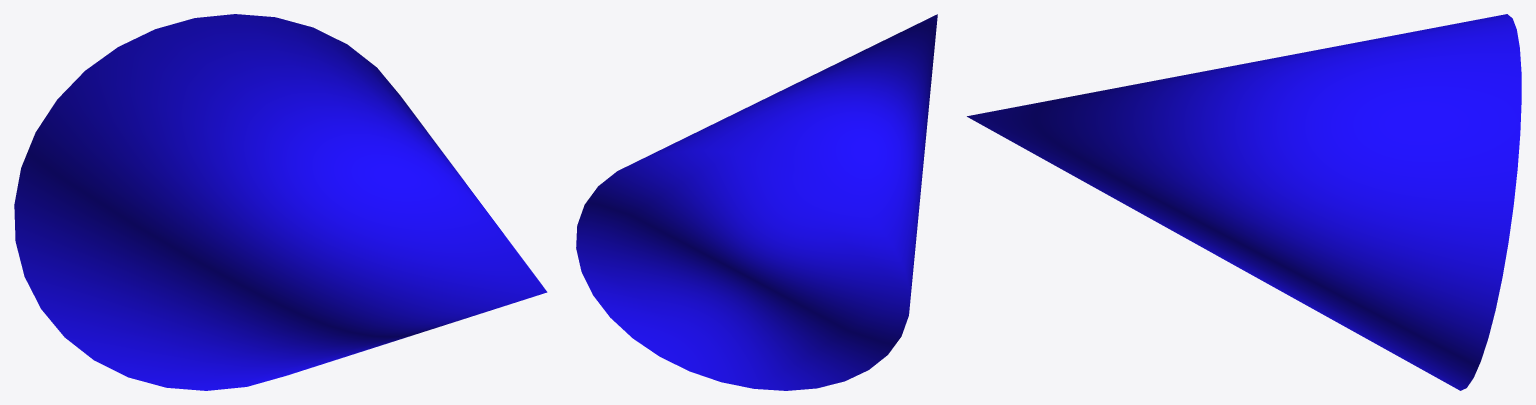
File: zone3-rhino-blue.gltf
3 views of the same model, side by side, from view 1: azimuth 30°, elevation 25°; view 2: azimuth 150°, elevation 25°; view 3: azimuth 270°, elevation 25° (orthographic). The views are drawn at different scales.
Parts seen in each view (by area): view 1: Corne; view 2: Corne; view 3: Corne.
Part boxes in pixels (left/top/right/bottom): Corne: left=14, top=14, right=547, bottom=390; Corne: left=576, top=14, right=937, bottom=390; Corne: left=967, top=14, right=1521, bottom=390.
Bounding box in the file's own units: 0.7107 × 0.5485 × 0.9062.
